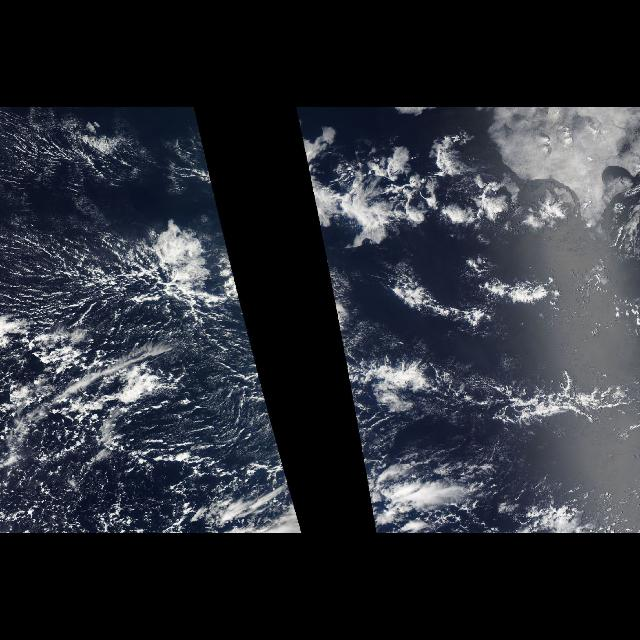Fish: (304, 132, 640, 514)
Gravel: (9, 113, 243, 520)
Sugar: (180, 332, 278, 450), (339, 332, 373, 450)
